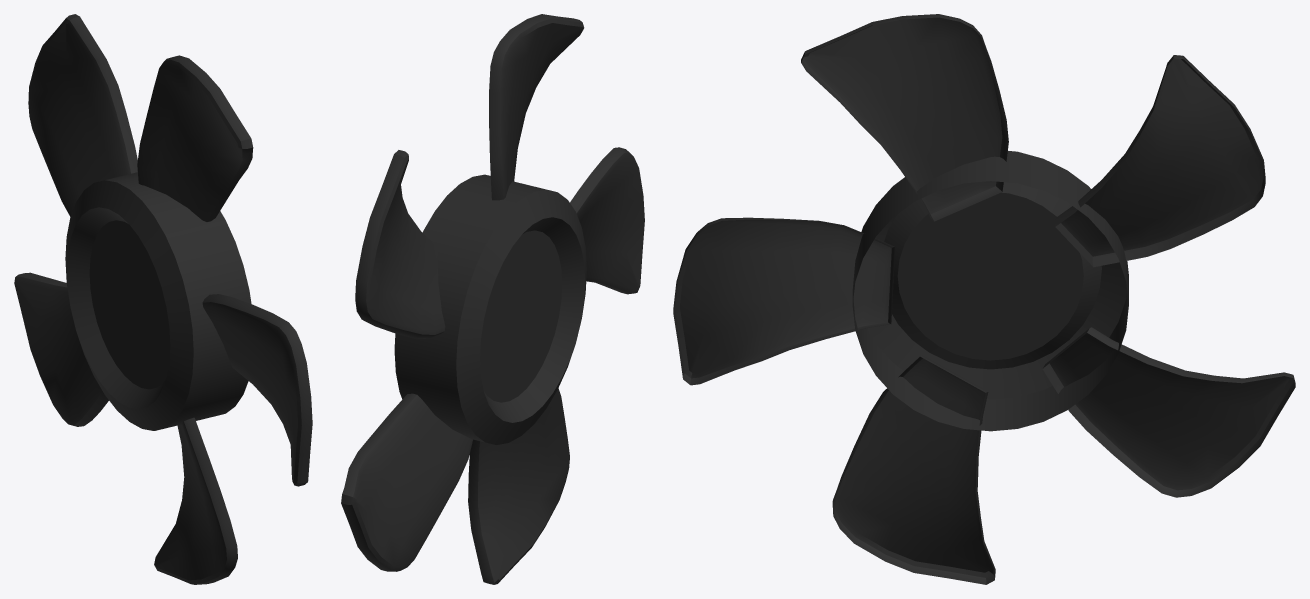
The model's file is refrigeration_unit_fan.glb.
The picture shows the model from 3 angles, left to right: view 1: azimuth 30°, elevation 25°; view 2: azimuth 150°, elevation 25°; view 3: azimuth 270°, elevation 25°; orthographic projection. The views are drawn at different scales.
Parts seen in each view (by area): view 1: Refrigeration Unit_Fan_SINGLE; view 2: Refrigeration Unit_Fan_SINGLE; view 3: Refrigeration Unit_Fan_SINGLE.
Part boxes in pixels (<box>): Refrigeration Unit_Fan_SINGLE: <box>14,14,312,584</box>; Refrigeration Unit_Fan_SINGLE: <box>341,14,644,584</box>; Refrigeration Unit_Fan_SINGLE: <box>673,14,1295,584</box>.
Bounding box in the file's own units: 0.0465 × 0.3281 × 0.3262.
1 material, 1 textured.
